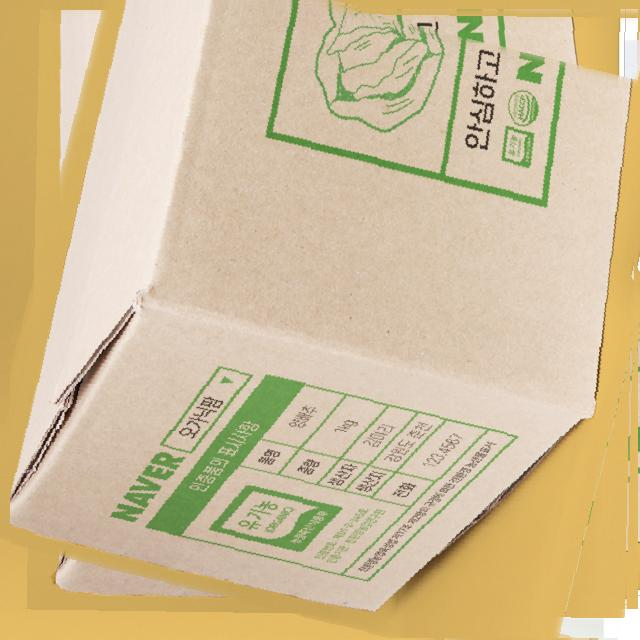biodegradable: (10, 0, 640, 638)
